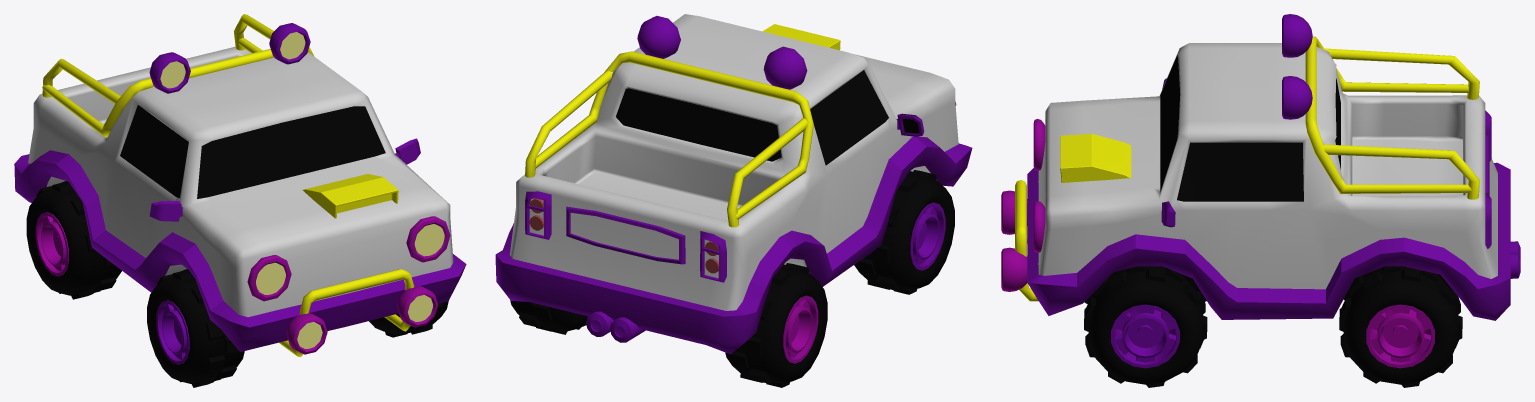
The picture shows the model from 3 angles, left to right: view 1: azimuth 30°, elevation 25°; view 2: azimuth 150°, elevation 25°; view 3: azimuth 270°, elevation 25°; orthographic projection. The views are drawn at different scales.
Visible parts, largest first — view 1: evo3_bodyEvo:PIV, evo3_sill3:PIV, evo3_glassFront:PIV, evo3_tireFR:PIV, evo3_tireBL:PIV, evo3_pole_back4:PIV, evo3_glassR:PIV, evo3_HoleFront:PIV, evo3_pole_front4:PIV, evo3_rimFR:PIV, evo3_rimBR:PIV, evo2_frontLightblockL:PIV (+14 smaller); view 2: evo3_bodyEvo:PIV, evo3_sill3:PIV, evo3_pole_back4:PIV, evo3_glassBack:PIV, evo3_tireBL:PIV, evo3_tireFR:PIV, evo3_glassR:PIV, evo3_rimBR:PIV, evo3_rimFR:PIV, evo3_tireBR:PIV, evo3_blockBlack:PIV, evo3_polySurface18:PIV (+5 smaller); view 3: evo3_bodyEvo:PIV, evo3_sill3:PIV, evo3_tireBR:PIV, evo3_tireFL:PIV, evo3_pole_back4:PIV, evo3_glassL:PIV, evo3_rimFL:PIV, evo3_rimBL:PIV, evo3_HoleFront:PIV, evo3_glassFront:PIV, evo3_polySurface16:PIV, evo3_polySurface18:PIV (+5 smaller).
Part boxes in pixels (x1,y1,x2,y2): evo3_bodyEvo:PIV: [28, 46, 453, 317]; evo3_sill3:PIV: [14, 150, 466, 351]; evo3_glassFront:PIV: [197, 106, 385, 198]; evo3_tireFR:PIV: [147, 269, 244, 387]; evo3_tireBL:PIV: [26, 181, 121, 299]; evo3_pole_back4:PIV: [42, 14, 314, 137]; evo3_glassR:PIV: [120, 105, 188, 198]; evo3_HoleFront:PIV: [302, 174, 398, 218]; evo3_pole_front4:PIV: [279, 269, 414, 357]; evo3_rimFR:PIV: [156, 300, 189, 364]; evo3_rimBR:PIV: [35, 212, 68, 276]; evo2_frontLightblockL:PIV: [406, 216, 450, 262]; evo3_bodyEvo:PIV: [510, 14, 958, 310]; evo3_sill3:PIV: [495, 136, 972, 354]; evo3_pole_back4:PIV: [525, 51, 813, 227]; evo3_glassBack:PIV: [616, 88, 781, 161]; evo3_tireBL:PIV: [725, 263, 827, 387]; evo3_tireFR:PIV: [854, 170, 954, 294]; evo3_glassR:PIV: [810, 70, 888, 165]; evo3_rimBR:PIV: [783, 295, 818, 363]; evo3_rimFR:PIV: [910, 202, 945, 270]; evo3_tireBR:PIV: [510, 300, 587, 334]; evo3_blockBlack:PIV: [566, 206, 685, 264]; evo3_polySurface18:PIV: [637, 16, 680, 58]; evo3_bodyEvo:PIV: [1038, 43, 1497, 289]; evo3_sill3:PIV: [1027, 162, 1510, 320]; evo3_tireBR:PIV: [1339, 266, 1462, 387]; evo3_tireFL:PIV: [1084, 266, 1207, 387]; evo3_pole_back4:PIV: [1305, 36, 1479, 199]; evo3_glassL:PIV: [1177, 142, 1303, 201]; evo3_rimFL:PIV: [1111, 304, 1179, 368]; evo3_rimBL:PIV: [1366, 304, 1434, 368]; evo3_HoleFront:PIV: [1060, 134, 1131, 182]; evo3_glassFront:PIV: [1160, 55, 1180, 191]; evo3_polySurface16:PIV: [1282, 14, 1312, 57]; evo3_polySurface18:PIV: [1282, 76, 1312, 119].
Bounding box in the file's own units: 187 × 175 × 295.
